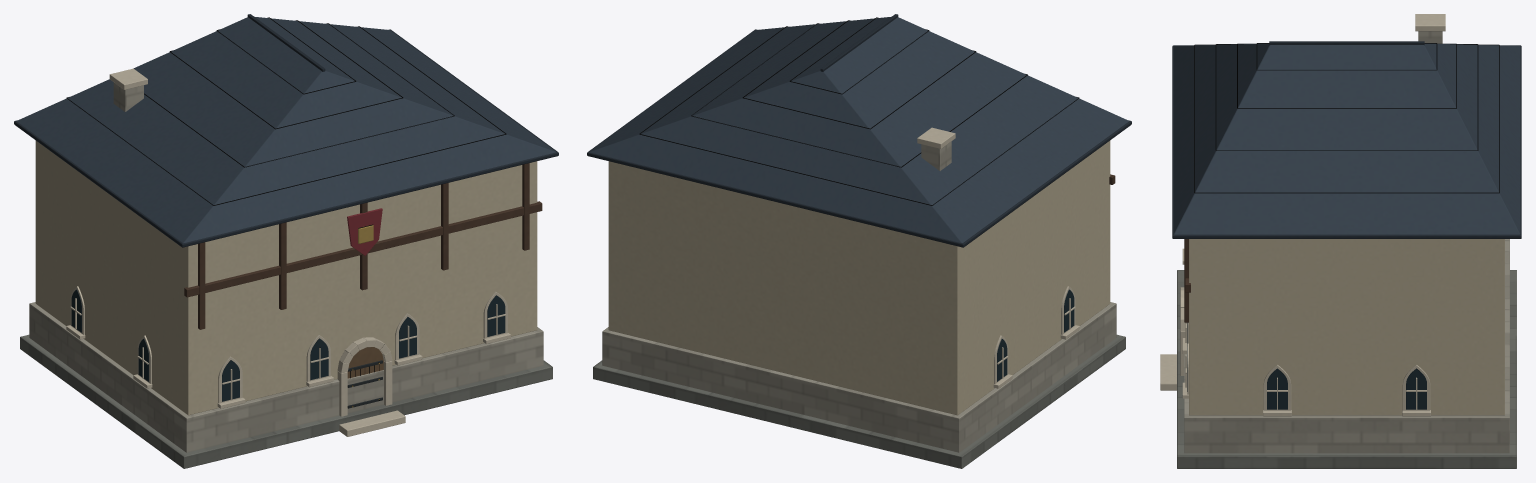
File: Guildhall.fbx
3 renders of one model, left to right at view 1: azimuth 30°, elevation 25°; view 2: azimuth 150°, elevation 25°; view 3: azimuth 270°, elevation 25°, orthographic. The views are drawn at different scales.
Parts seen in each view (by area): view 1: Guildhall.001; view 2: Guildhall.001; view 3: Guildhall.001.
Boxes of the visible parts, <box> form: Guildhall.001: <box>14,14,558,468</box>; Guildhall.001: <box>587,14,1131,468</box>; Guildhall.001: <box>1160,14,1521,468</box>.
Size of the model in its own units: 15.11 by 12.36 by 12.12.
